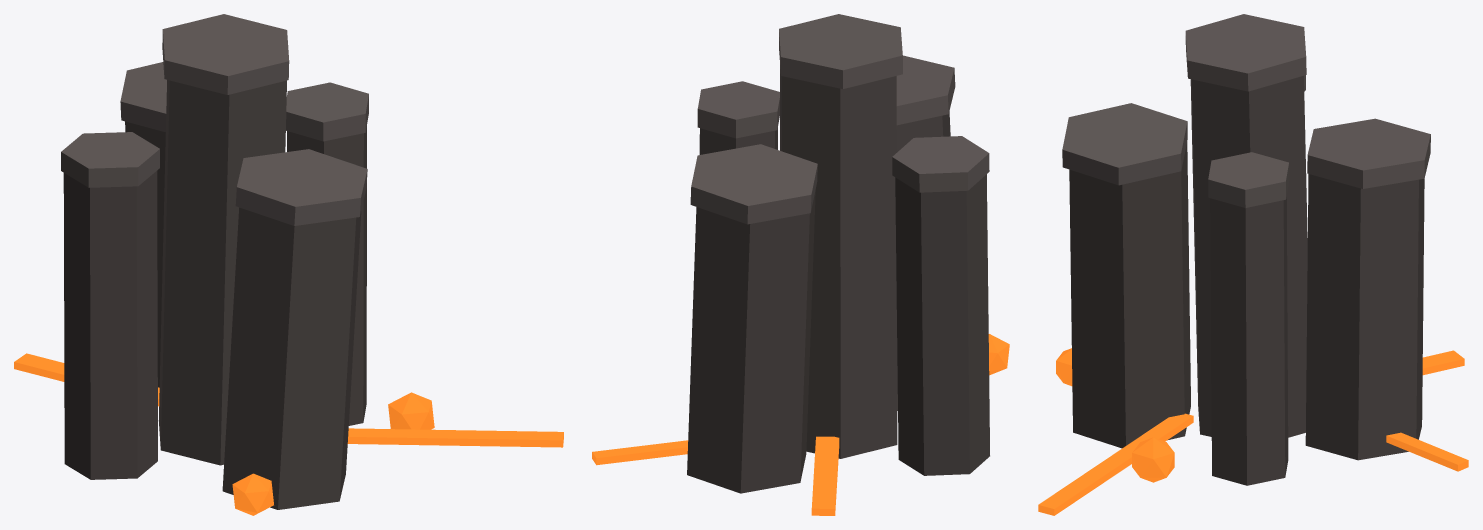
File: runtime.glb
3 renders of one model, left to right at view 1: azimuth 30°, elevation 25°; view 2: azimuth 150°, elevation 25°; view 3: azimuth 270°, elevation 25°, orthographic. The views are drawn at different scales.
Parts seen in each view (by area): view 1: magma_outcrop_basalt_nocol, magma_outcrop_cap_noshadow_nocol, magma_outcrop_lava_noshadow_nocol; view 2: magma_outcrop_basalt_nocol, magma_outcrop_cap_noshadow_nocol, magma_outcrop_lava_noshadow_nocol; view 3: magma_outcrop_basalt_nocol, magma_outcrop_cap_noshadow_nocol, magma_outcrop_lava_noshadow_nocol.
Part boxes in pixels (left/top/right/bottom): magma_outcrop_basalt_nocol: left=63, top=80, right=366, bottom=509; magma_outcrop_cap_noshadow_nocol: left=61, top=14, right=368, bottom=225; magma_outcrop_lava_noshadow_nocol: left=14, top=353, right=563, bottom=515; magma_outcrop_basalt_nocol: left=687, top=65, right=989, bottom=493; magma_outcrop_cap_noshadow_nocol: left=690, top=14, right=989, bottom=224; magma_outcrop_lava_noshadow_nocol: left=592, top=334, right=1009, bottom=515; magma_outcrop_basalt_nocol: left=1069, top=75, right=1424, bottom=485; magma_outcrop_cap_noshadow_nocol: left=1062, top=14, right=1430, bottom=207; magma_outcrop_lava_noshadow_nocol: left=1038, top=348, right=1468, bottom=515.
Size of the model in its own units: 3.38 by 3.35 by 3.43.
